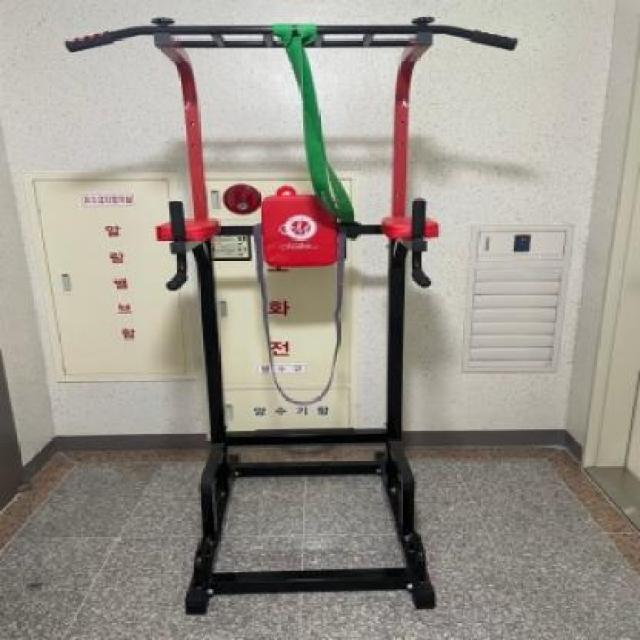chinning dipping: (67, 14, 516, 609)
